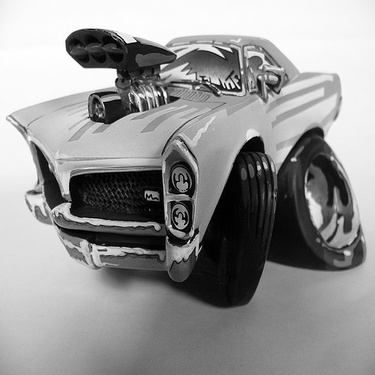car: (1, 20, 366, 289)
